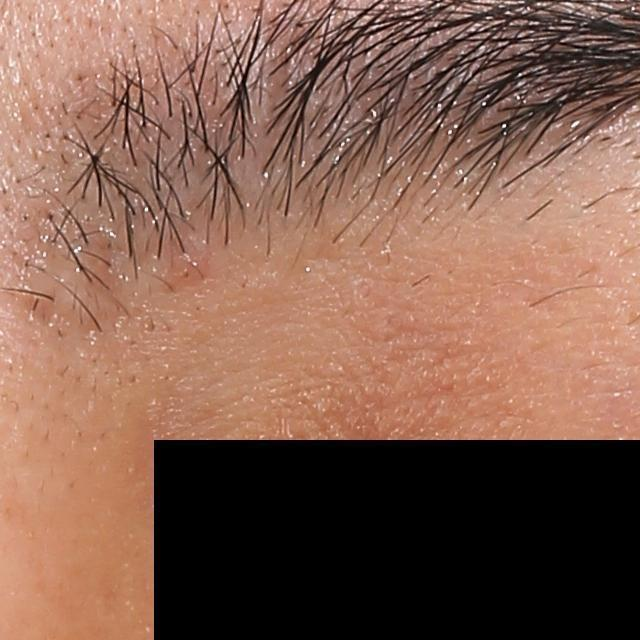papule: (168, 245, 211, 281)
